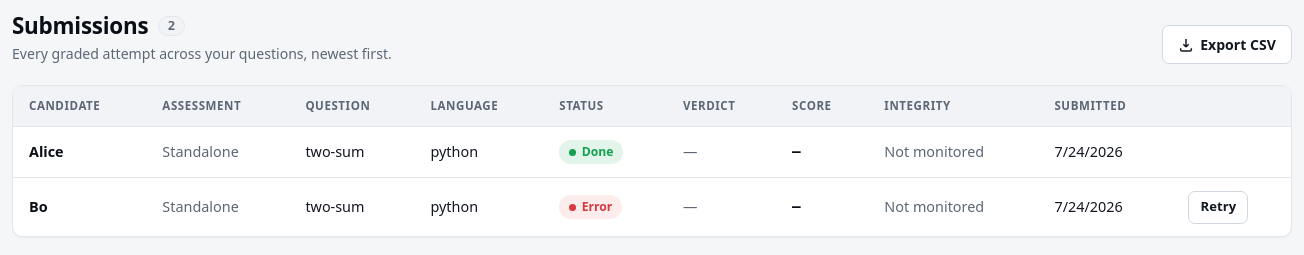
Scenario: SubmissionsPage — recovering a failed grading (UI-A) › offers Retry only on the rows that failed, and updates that row in place
Click the button "Retry" at (1218, 207), box [1188,191,1248,224]
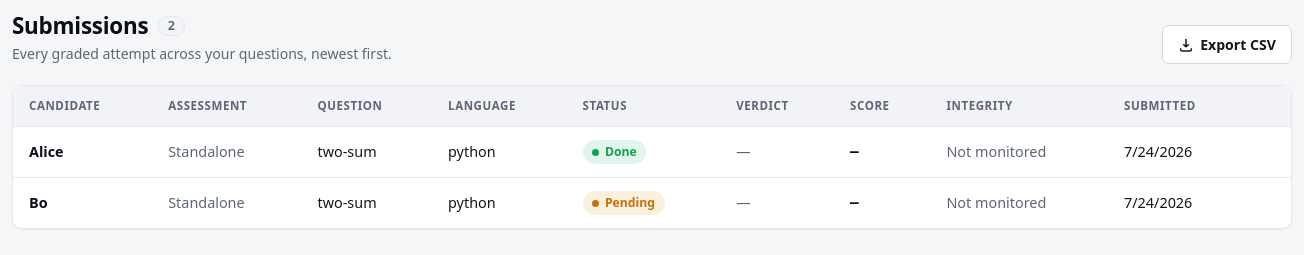
Expected: the text "pending" is shown, [582,191,665,215]
